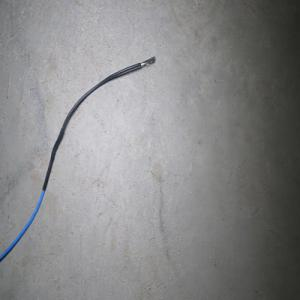Wire: (0, 55, 155, 262)
